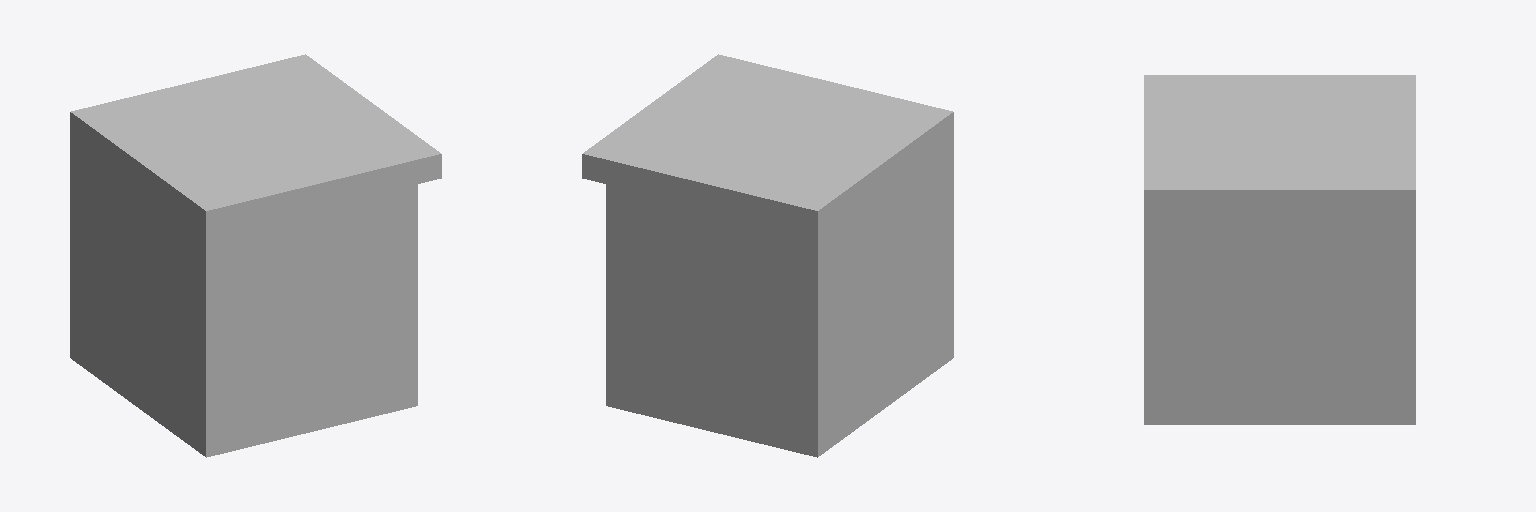
The model's file is kitchen_counter_1.obj.
3 views of the same model, side by side, from view 1: azimuth 30°, elevation 25°; view 2: azimuth 150°, elevation 25°; view 3: azimuth 270°, elevation 25° (orthographic).
Visible parts, largest first — view 1: kitchen_counter_1; view 2: kitchen_counter_1; view 3: kitchen_counter_1.
Part boxes in pixels (bbox=[...]): kitchen_counter_1: bbox=[70, 54, 441, 457]; kitchen_counter_1: bbox=[582, 54, 953, 457]; kitchen_counter_1: bbox=[1144, 75, 1415, 424].
Bounding box in the file's own units: 2 × 2 × 2.